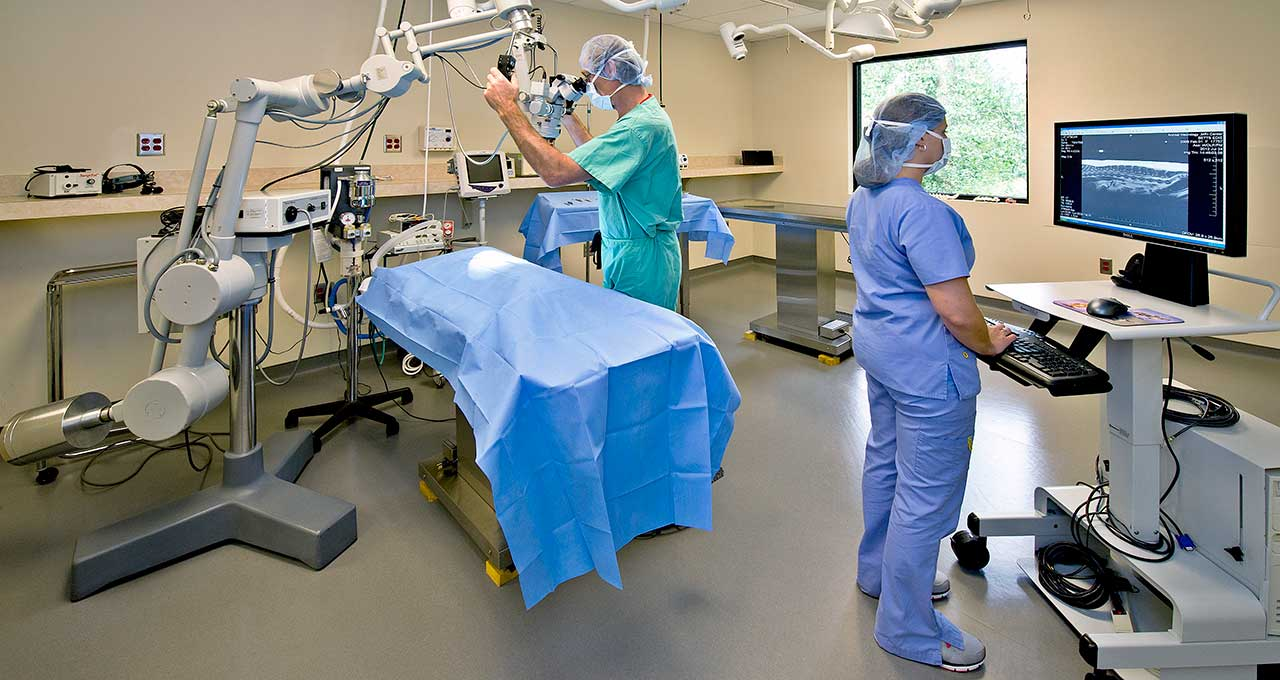bedside_monitor: (454, 150, 511, 198)
computer: (1052, 111, 1248, 259)
countertop: (4, 150, 786, 228)
keyboard: (979, 317, 1111, 386)
mouse: (1086, 297, 1128, 318)
operating_bed: (358, 246, 702, 587), (714, 198, 848, 366)
staff: (845, 92, 1017, 673), (484, 33, 684, 313)
surgical_instrument: (563, 192, 688, 207)
surgical_light: (831, 1, 901, 44)
